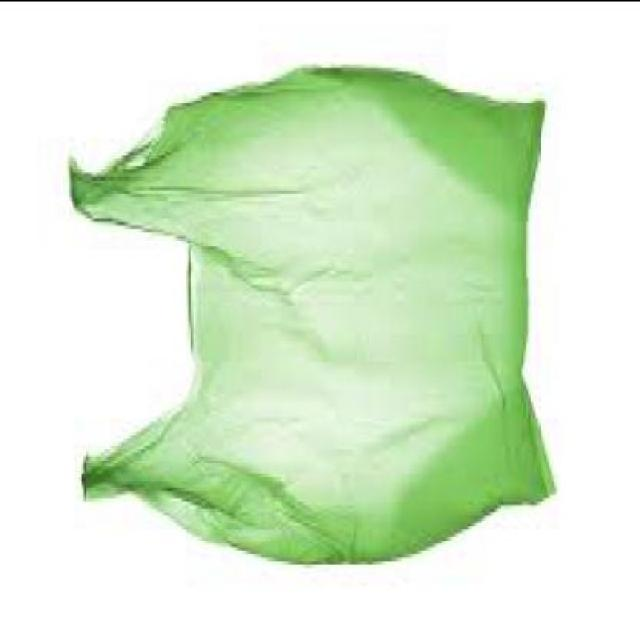PLASTIC: (68, 66, 554, 571)
